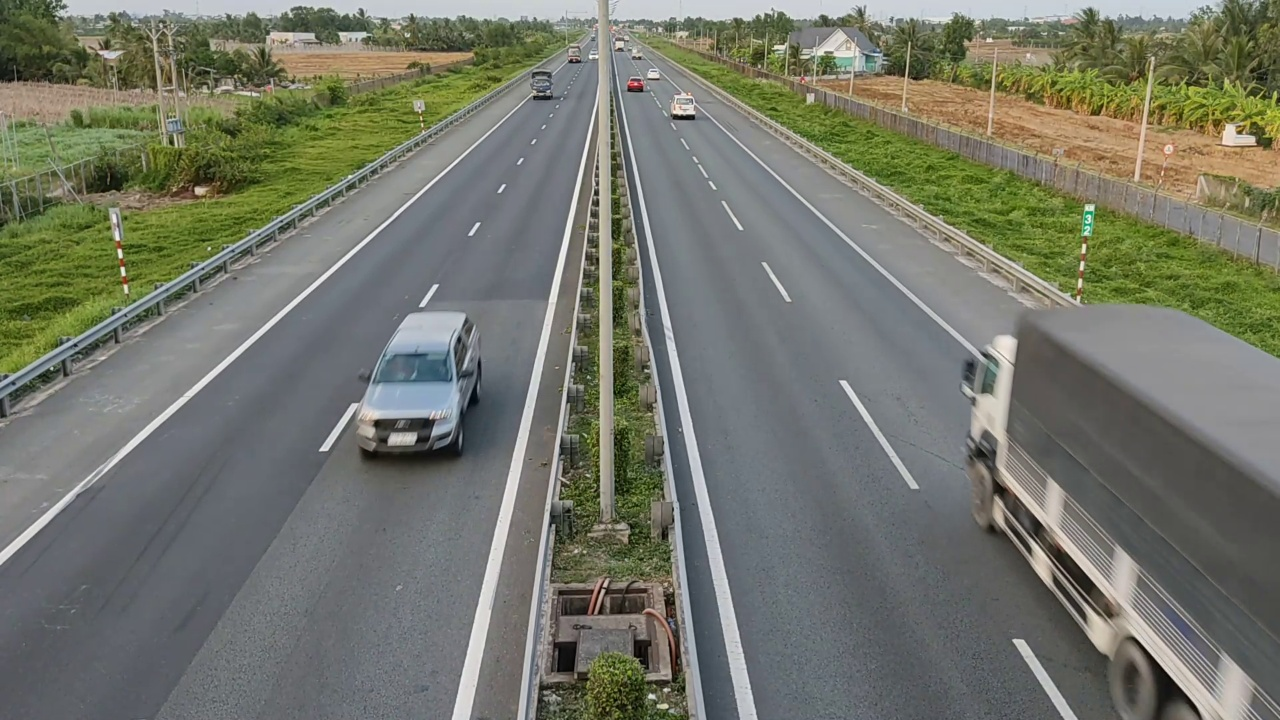bus: (960, 300, 1278, 716)
car: (353, 305, 489, 460), (669, 93, 696, 119)
